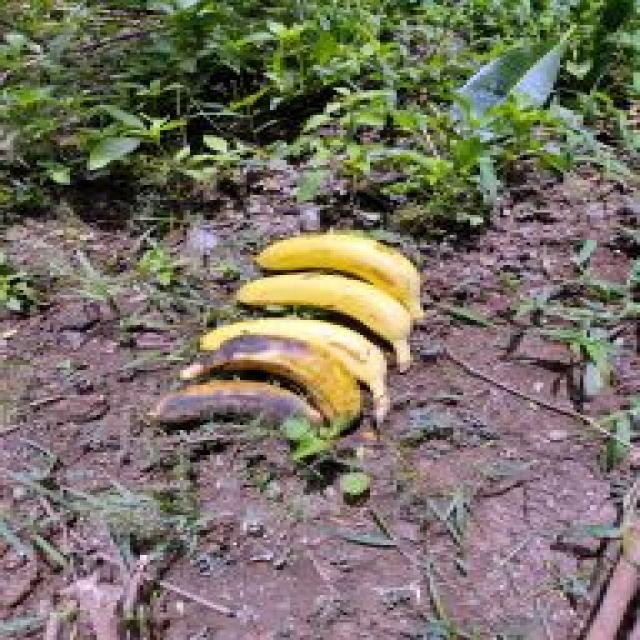Organik: (172, 325, 354, 430), (205, 296, 417, 383), (246, 219, 434, 317), (215, 268, 425, 352), (146, 371, 311, 441)
